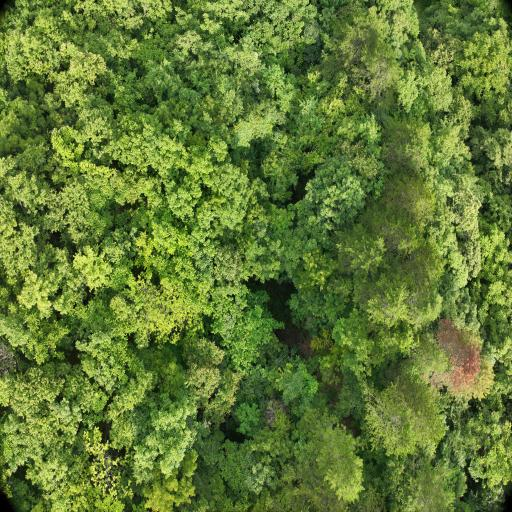sick-tree: (441, 322, 474, 381)
